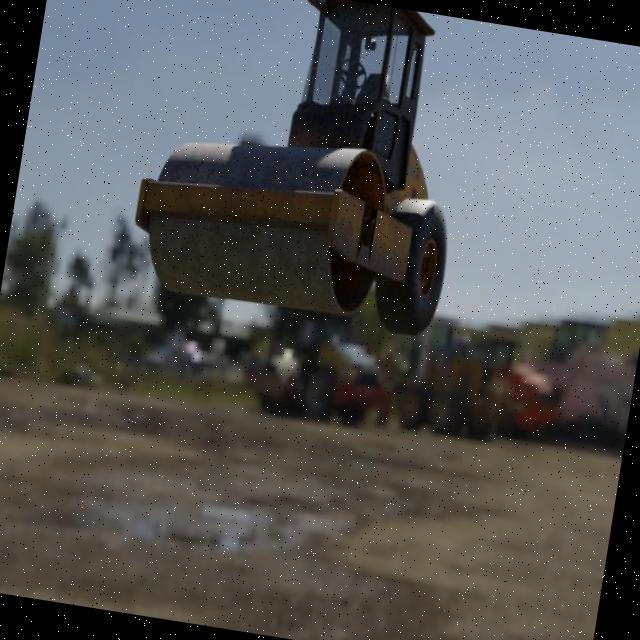Roller: (122, 0, 483, 342)
